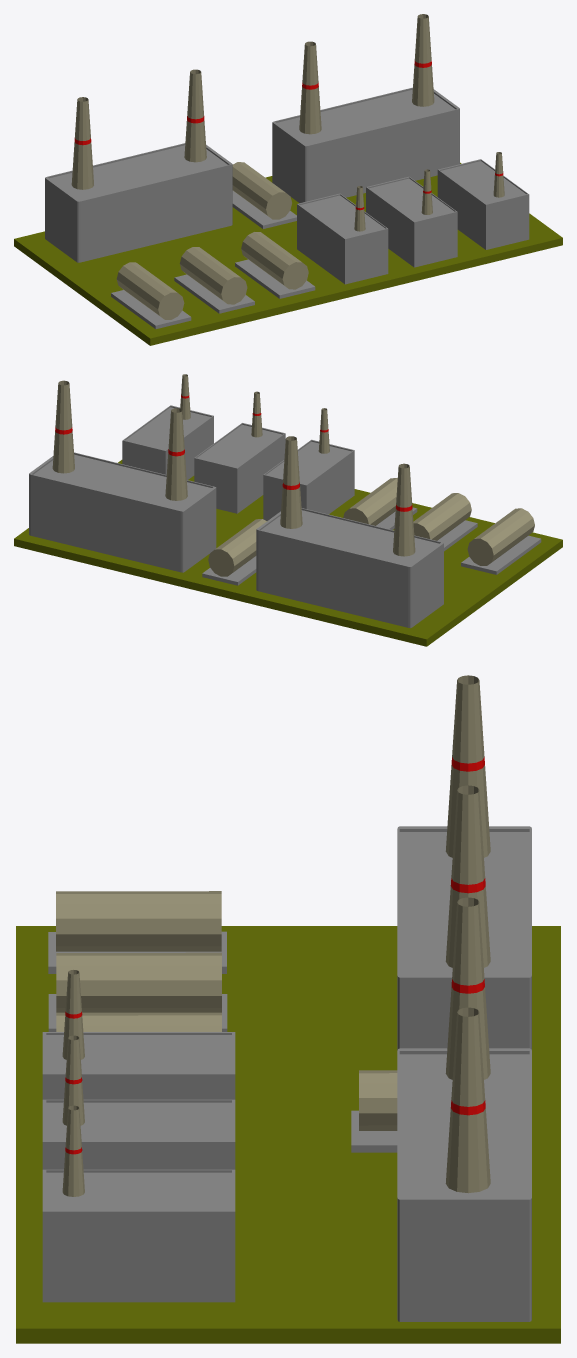
File: FACTOry.fbx
3 renders of one model, top to bottom at view 1: azimuth 30°, elevation 25°; view 2: azimuth 150°, elevation 25°; view 3: azimuth 270°, elevation 25°, orthographic. The views are drawn at different scales.
Visible parts, largest first — view 1: Cube, Cube.008, Cube.001, Cube.007, Cube.002, Cube.003, Cylinder.002, Cylinder.003, Cylinder.004, Cylinder.010, Cylinder.001, Cylinder.008 (+8 smaller); view 2: Cube.008, Cube.001, Cube, Cube.003, Cube.007, Cube.002, Cylinder.002, Cylinder.003, Cylinder.010, Cylinder.001, Cylinder.008, Cylinder.009 (+8 smaller); view 3: Cube, Cube.001, Cube.002, Cube.008, Cube.003, Cube.007, Cylinder.002, Cylinder.003, Cylinder, Cylinder.008, Cylinder.001, Cylinder.009 (+7 smaller).
Part boxes in pixels (x1=…): Cube: x1=14, y1=162, x2=562, y2=345; Cube.008: x1=45, y1=143, x2=232, y2=262; Cube.001: x1=272, y1=87, x2=459, y2=203; Cube.007: x1=297, y1=193, x2=388, y2=284; Cube.002: x1=437, y1=159, x2=529, y2=249; Cube.003: x1=366, y1=176, x2=457, y2=267; Cylinder.002: x1=116, y1=262, x2=184, y2=319; Cylinder.003: x1=179, y1=247, x2=247, y2=304; Cylinder.004: x1=241, y1=232, x2=308, y2=289; Cylinder.010: x1=232, y1=162, x2=291, y2=219; Cylinder.001: x1=299, y1=41, x2=321, y2=134; Cylinder.008: x1=184, y1=69, x2=206, y2=162; Cube.008: x1=256, y1=508, x2=443, y2=628; Cube.001: x1=29, y1=452, x2=216, y2=572; Cube: x1=14, y1=460, x2=562, y2=646; Cube.003: x1=194, y1=423, x2=285, y2=513; Cube.007: x1=263, y1=439, x2=354, y2=520; Cube.002: x1=122, y1=405, x2=213, y2=479; Cylinder.002: x1=467, y1=508, x2=534, y2=565; Cylinder.003: x1=413, y1=493, x2=471, y2=540; Cylinder.010: x1=208, y1=519, x2=266, y2=576; Cylinder.001: x1=165, y1=408, x2=187, y2=500; Cylinder.008: x1=280, y1=436, x2=302, y2=528; Cylinder.009: x1=393, y1=463, x2=415, y2=556; Cube: x1=16, y1=926, x2=560, y2=1343; Cube.001: x1=397, y1=1048, x2=531, y2=1321; Cube.002: x1=42, y1=1169, x2=235, y2=1302; Cube.008: x1=397, y1=826, x2=531, y2=1050; Cube.003: x1=42, y1=1099, x2=235, y2=1169; Cube.007: x1=42, y1=1032, x2=235, y2=1099; Cylinder.002: x1=56, y1=891, x2=221, y2=951; Cylinder.003: x1=56, y1=952, x2=221, y2=1012; Cylinder: x1=445, y1=1007, x2=490, y2=1193; Cylinder.008: x1=445, y1=785, x2=490, y2=967; Cylinder.001: x1=445, y1=897, x2=490, y2=1079; Cylinder.009: x1=445, y1=675, x2=490, y2=857.
Bounding box in the file's own units: 157 × 55.33 × 89.47.
